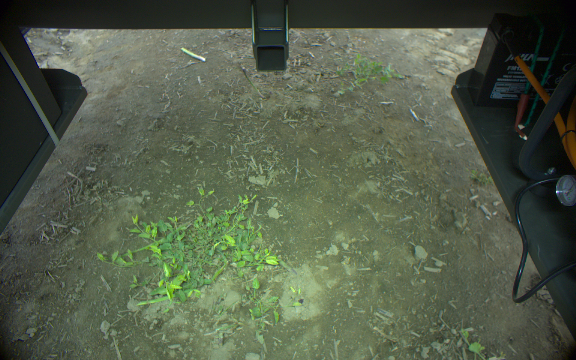aspa: (240, 64, 266, 100), (178, 45, 207, 63)
